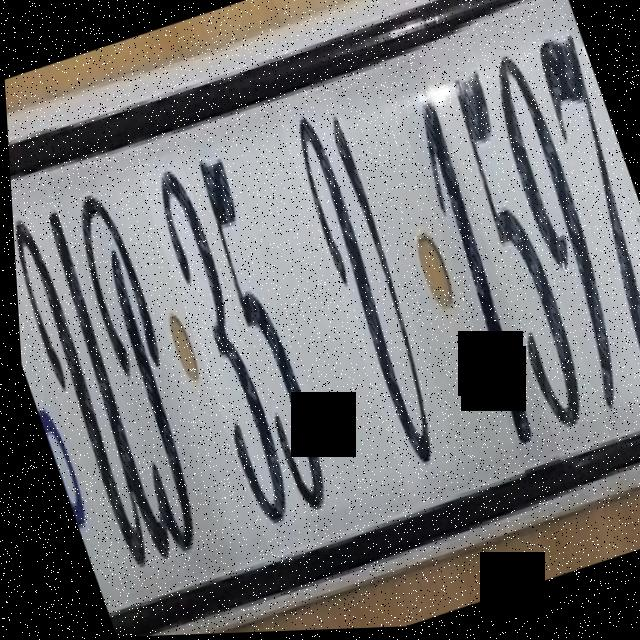1: (381, 52, 560, 494)
3: (131, 148, 309, 565)
5: (419, 36, 609, 475), (167, 104, 344, 524)
7: (516, 4, 640, 410)
9: (464, 21, 640, 445)
P: (47, 159, 239, 584)
U: (8, 169, 179, 598)
V: (272, 87, 464, 505)
